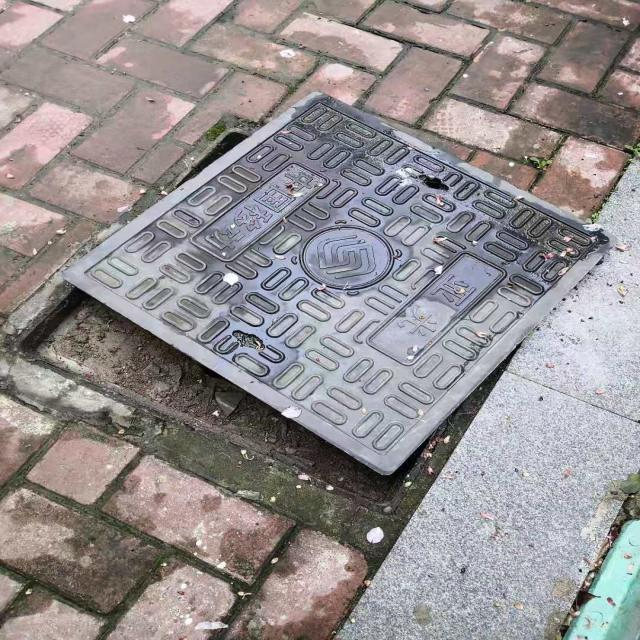Faulty: (3, 89, 612, 511)
